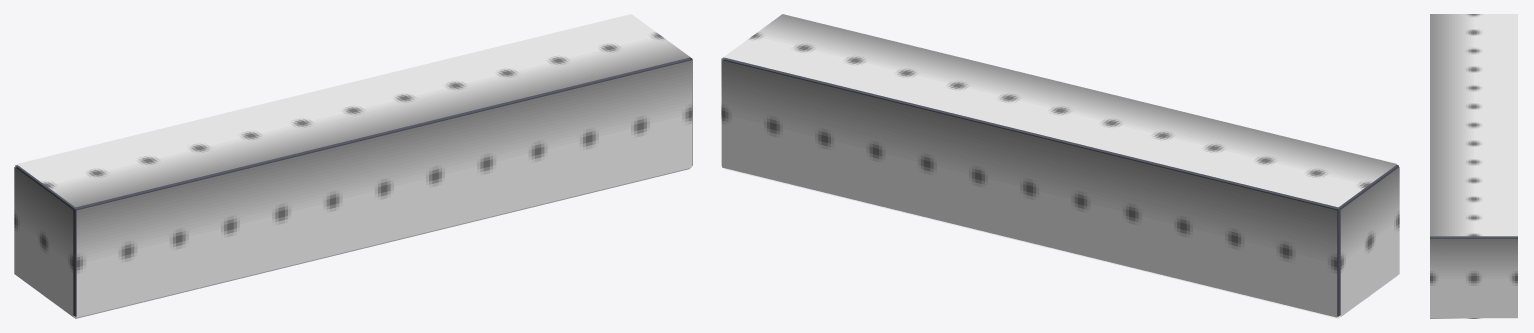
The model's file is chute.obj.
3 renders of one model, left to right at view 1: azimuth 30°, elevation 25°; view 2: azimuth 150°, elevation 25°; view 3: azimuth 270°, elevation 25°, orthographic. The views are drawn at different scales.
Visible parts, largest first — view 1: Chute4, Chute3, Chute6, Chute1, Chute5; view 2: Chute2, Chute3, Chute6, Chute1, Chute5; view 3: Chute3, Chute7, Chute1, Chute5.
Boxes of the visible parts, left/top/right/bottom form: Chute4: left=76, top=60, right=691, bottom=317; Chute3: left=16, top=14, right=689, bottom=207; Chute6: left=14, top=167, right=73, bottom=316; Chute1: left=16, top=58, right=690, bottom=316; Chute5: left=17, top=168, right=690, bottom=318; Chute2: left=722, top=60, right=1337, bottom=317; Chute3: left=724, top=14, right=1397, bottom=207; Chute6: left=1340, top=167, right=1399, bottom=316; Chute1: left=723, top=58, right=1397, bottom=316; Chute5: left=723, top=168, right=1396, bottom=318; Chute3: left=1430, top=14, right=1517, bottom=236; Chute7: left=1430, top=238, right=1517, bottom=317; Chute1: left=1430, top=236, right=1517, bottom=238; Chute5: left=1430, top=318, right=1517, bottom=318.
Size of the model in its own units: 6.04 by 1.04 by 1.04.
2 materials, 1 textured.
